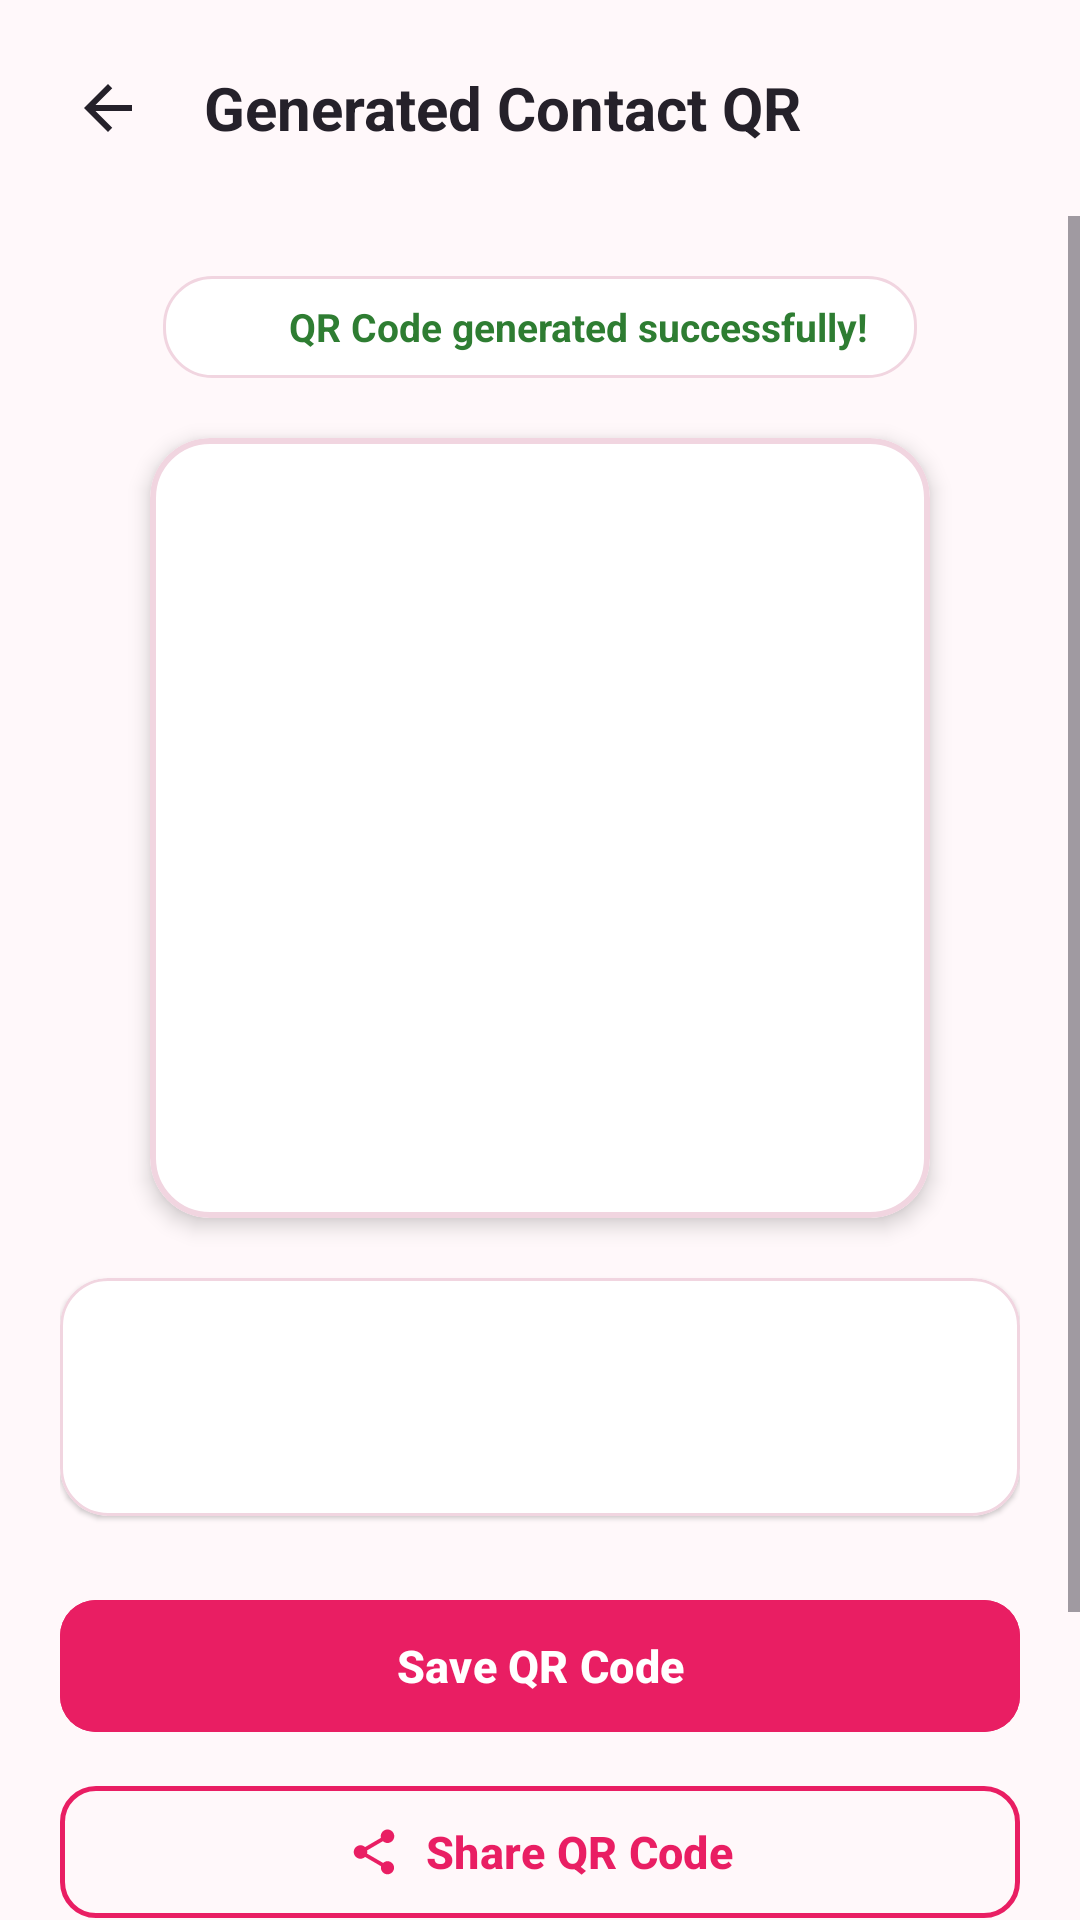

Named icons in this screenshot (1080px×1920px) and their bounding boxes, (x1, y1, x2, y2):
Back to Contacts: (84, 84, 132, 132)
